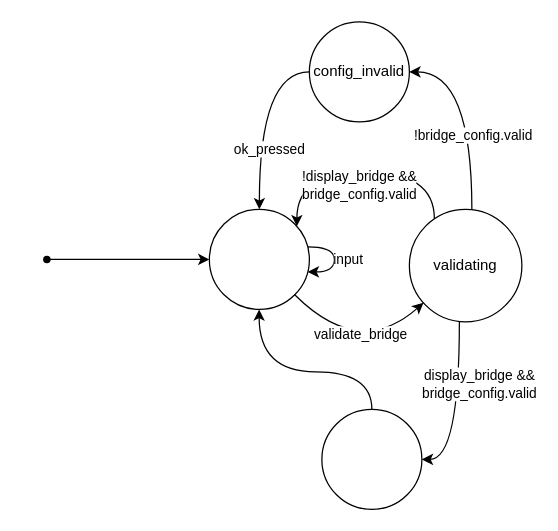
This 558x531 diagram has some shape labels left out. The shapes that lost their labels are listed below. From the top down, each one's box as (x1, y1, x2, y2) in pixels, then its label:
(208, 208, 309, 309): waiting
(321, 408, 422, 509): display
